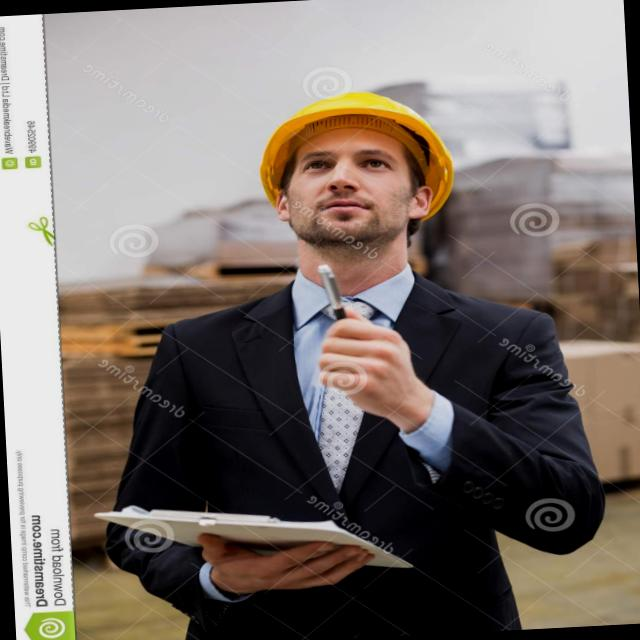helmet: (244, 84, 463, 200)
no-goggles: (266, 134, 427, 194)
no-vest: (156, 266, 560, 600)
